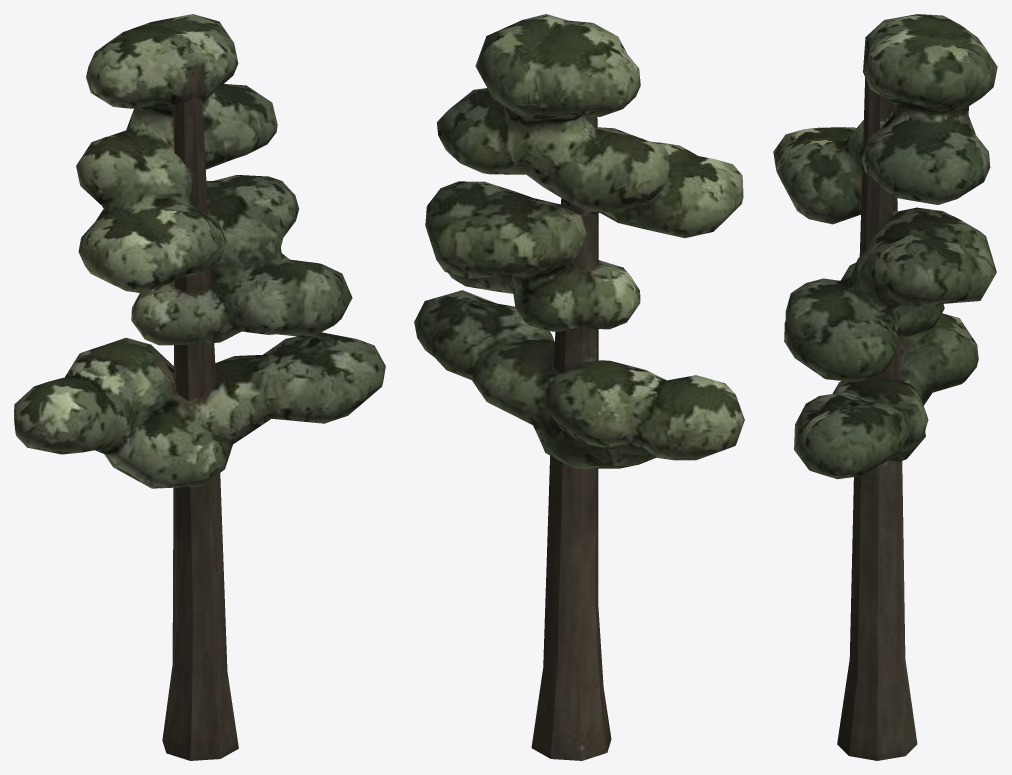
The model's file is tree_tall_b_far.glb.
The picture shows the model from 3 angles, left to right: view 1: azimuth 30°, elevation 25°; view 2: azimuth 150°, elevation 25°; view 3: azimuth 270°, elevation 25°; orthographic projection. The views are drawn at different scales.
Visible parts, largest first — view 1: tree_tall_b_lod1; view 2: tree_tall_b_lod1; view 3: tree_tall_b_lod1.
Boxes of the visible parts, x1,y1,x2,y2 form: tree_tall_b_lod1: [14, 14, 385, 760]; tree_tall_b_lod1: [414, 14, 744, 760]; tree_tall_b_lod1: [773, 14, 997, 760].
Bounding box in the file's own units: 2.25 × 4.54 × 1.3.
1 material, 1 textured.
